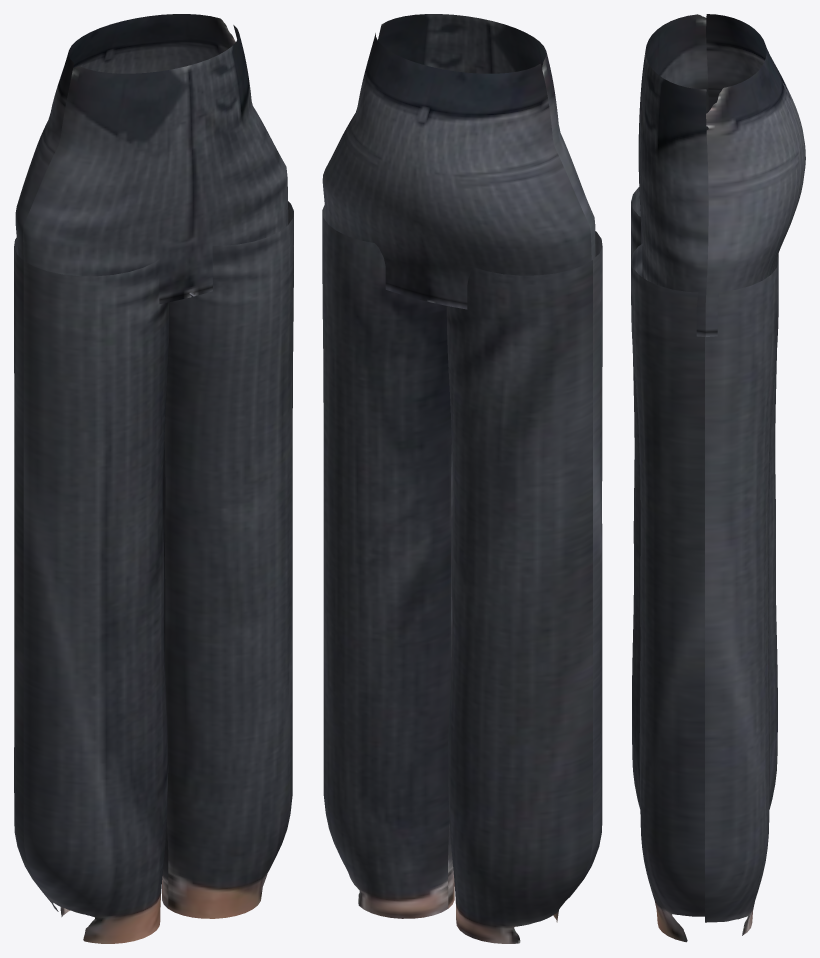
Rendered from prod-ae-charcoal-pinstripe-trousers.glb.
The picture shows the model from 3 angles, left to right: view 1: azimuth 30°, elevation 25°; view 2: azimuth 150°, elevation 25°; view 3: azimuth 270°, elevation 25°; orthographic projection. The views are drawn at different scales.
Visible parts, largest first — view 1: prod-ae-charcoal-pinstripe-trousers; view 2: prod-ae-charcoal-pinstripe-trousers; view 3: prod-ae-charcoal-pinstripe-trousers.
Part boxes in pixels (x1=…): prod-ae-charcoal-pinstripe-trousers: x1=14, y1=14, x2=293, y2=943; prod-ae-charcoal-pinstripe-trousers: x1=322, y1=14, x2=602, y2=943; prod-ae-charcoal-pinstripe-trousers: x1=631, y1=14, x2=805, y2=942.
Size of the model in its own units: 0.2836 by 0.9008 by 0.169.
1 material, 1 textured.
